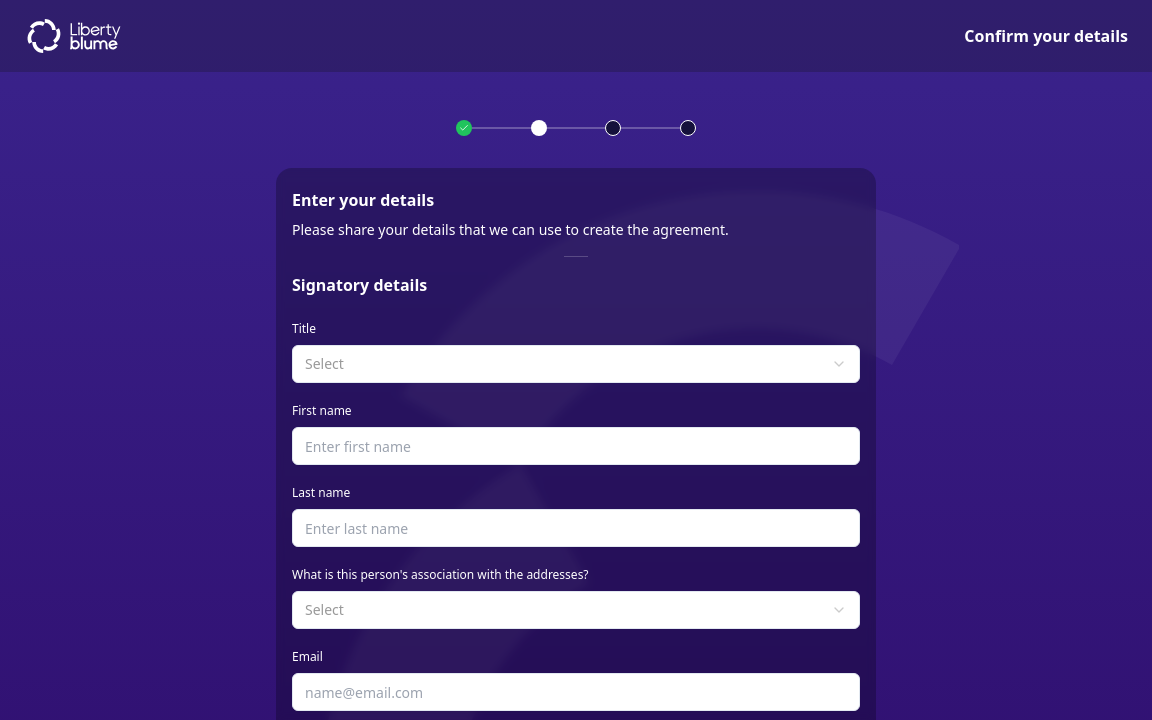
it: AddAuthorizedSign › form validation › shows requiredFieldsError when title is missing
This screenshot has width=1152, height=720.
Type "John" into the field with placeholder "Enter first name" at (576, 446), box [292,427,860,465]
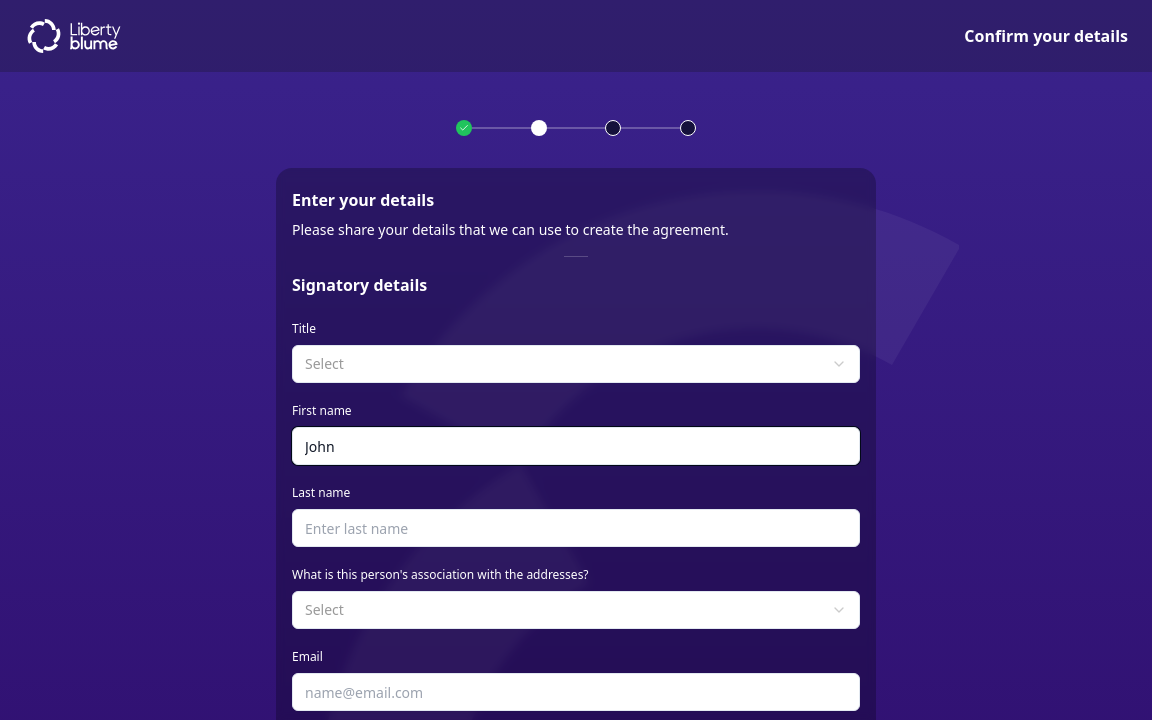
Type "Doe" into the field with placeholder "Enter last name" at (576, 528), box [292,509,860,547]
(page scrolled)
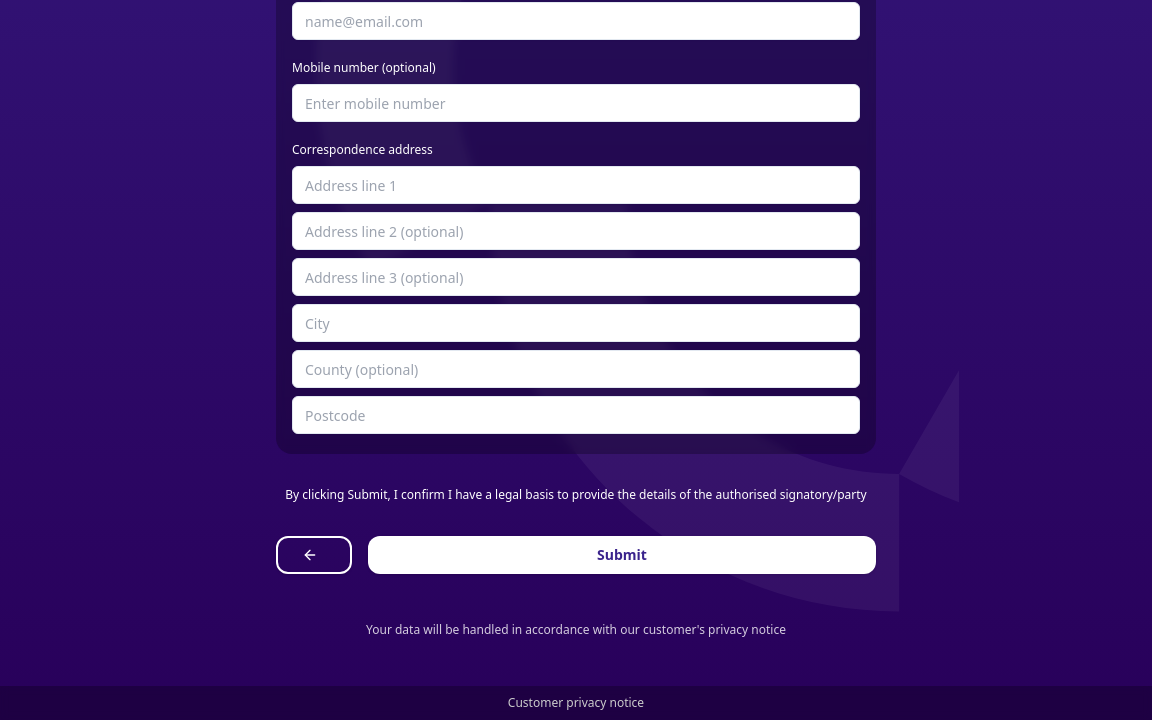
Click the button "Submit" at (622, 555), box [368,536,876,574]
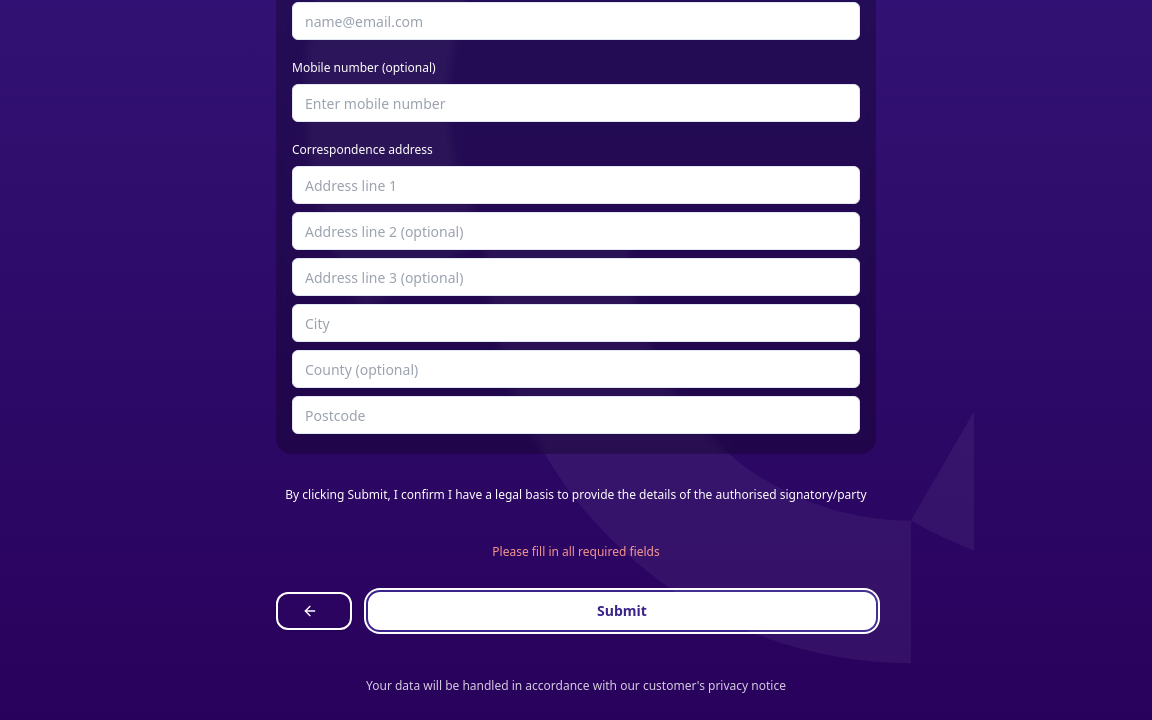
Expected: the text "Please fill in all required fields" is shown, [492,543,660,560]
